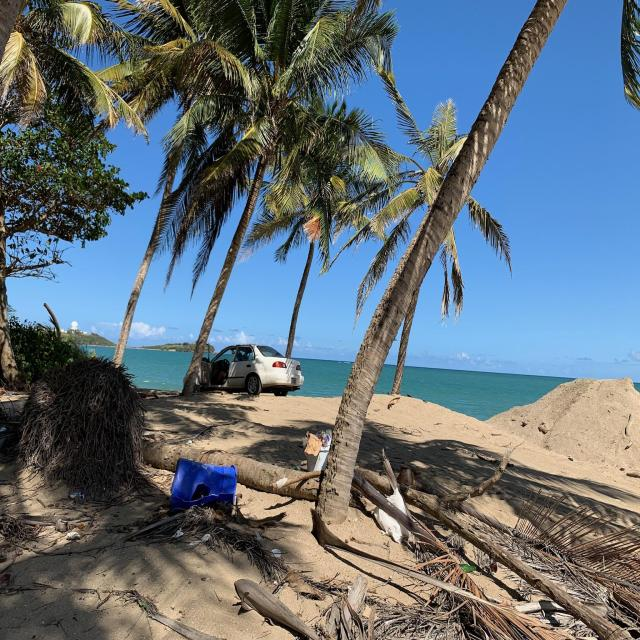litter: (169, 457, 238, 516), (371, 488, 409, 542), (303, 429, 333, 471), (189, 533, 213, 546), (458, 564, 476, 574), (276, 478, 289, 490), (65, 531, 80, 540), (491, 556, 498, 573), (270, 549, 282, 558), (172, 528, 184, 537), (70, 491, 85, 498), (454, 549, 458, 558), (294, 467, 301, 472), (187, 439, 193, 444)
